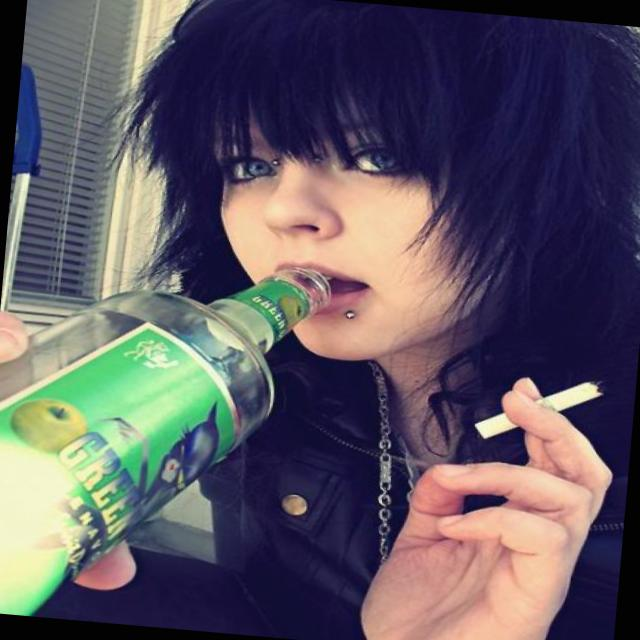smoke: (472, 369, 609, 448)
